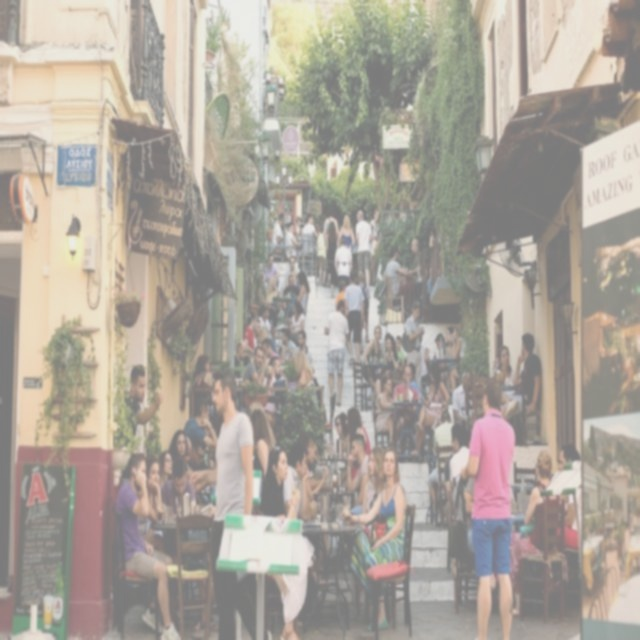pessoa: (188, 371, 274, 639), (459, 376, 517, 640), (114, 450, 182, 640), (340, 444, 408, 630), (508, 447, 562, 617), (409, 360, 452, 460), (462, 474, 498, 592), (123, 361, 166, 455), (324, 298, 350, 408), (136, 452, 164, 552), (427, 409, 455, 509), (510, 331, 542, 417), (282, 439, 314, 524), (158, 452, 198, 518), (340, 406, 372, 486), (448, 425, 473, 526), (403, 299, 426, 401), (284, 443, 312, 525), (283, 443, 311, 524), (342, 268, 364, 368), (182, 396, 219, 452), (260, 356, 288, 430), (190, 352, 217, 422), (361, 444, 387, 515), (383, 244, 416, 298), (346, 432, 370, 506), (294, 351, 322, 414), (352, 206, 372, 294), (248, 407, 272, 479), (408, 237, 425, 325), (448, 322, 468, 394), (255, 274, 277, 338), (375, 376, 395, 446), (361, 324, 383, 387), (242, 344, 272, 390), (451, 368, 473, 426), (448, 323, 466, 392), (368, 206, 382, 287), (392, 364, 419, 402), (294, 223, 312, 280), (333, 235, 352, 288), (372, 363, 394, 408), (286, 299, 306, 348), (314, 223, 329, 287), (358, 271, 370, 344), (495, 344, 515, 387), (556, 442, 582, 475), (294, 268, 310, 320), (168, 428, 188, 466), (262, 252, 280, 294), (333, 411, 349, 457), (322, 206, 340, 244), (296, 329, 314, 366), (383, 334, 400, 372), (244, 310, 258, 356), (260, 338, 282, 366), (338, 214, 356, 248), (284, 221, 299, 260), (156, 450, 172, 486), (256, 304, 272, 338), (408, 362, 423, 396), (301, 212, 319, 240), (282, 272, 300, 300), (278, 327, 298, 352), (271, 212, 285, 246), (394, 334, 406, 372), (234, 338, 248, 368), (334, 279, 346, 312), (284, 254, 300, 278), (443, 326, 454, 360), (434, 331, 447, 358), (264, 276, 278, 300), (251, 320, 262, 350), (384, 331, 392, 350)
